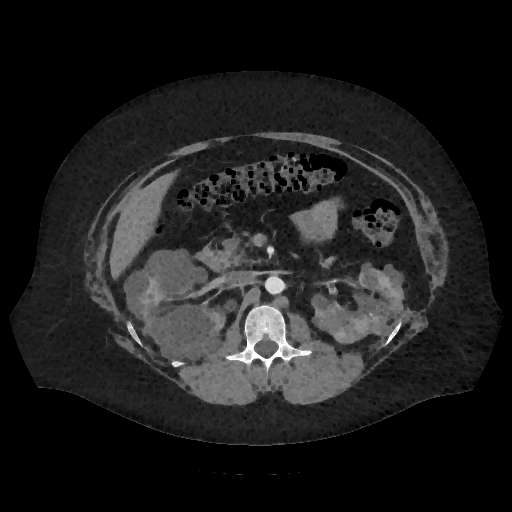Lesion: (333, 330, 350, 346)
